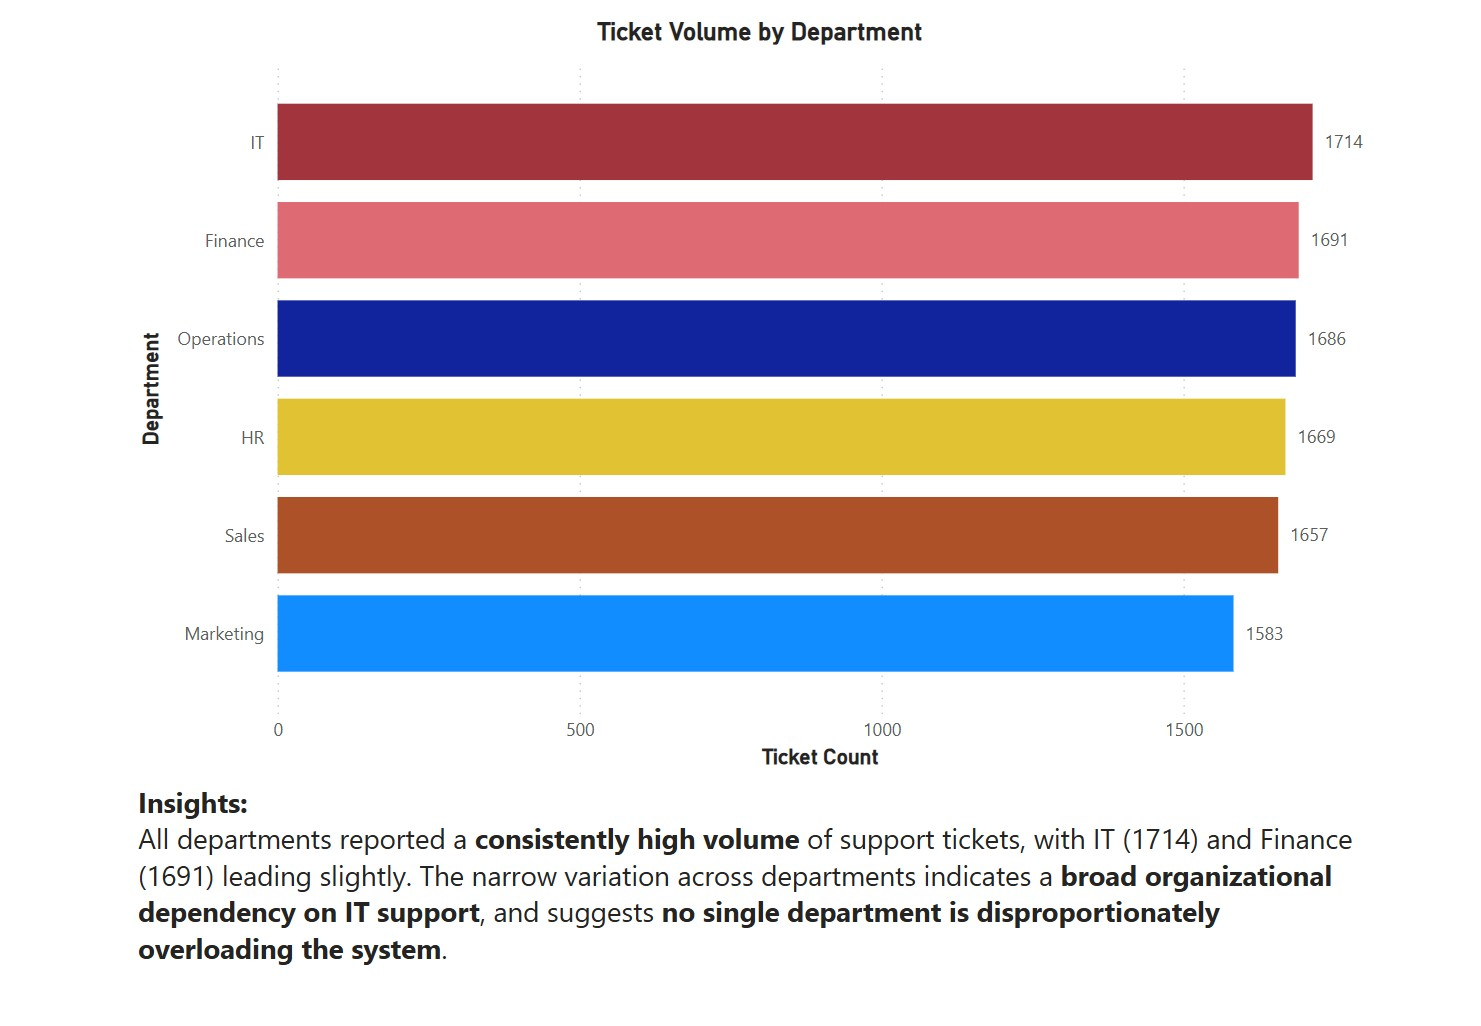

The dashboard page shown, as its layout file describes it:
{"tool":"powerbi","page":{"name":"Ticket Volume by Department","canvas":[1280,720],"ordinal":6},"visuals":[{"type":"clusteredBarChart","title":"Ticket Volume by Department","fields":{"Category":["tickets_by_department csv.Department"],"Y":["Sum(tickets_by_department csv.Ticket_Count)"]},"box":[185.4,18.2,850.1,512.7],"z":0},{"type":"textbox","box":[185.4,530.9,850.1,189.5],"z":1}]}

Visuals, with their boxes on the page's 1280x720 design canvas (x1, y1, x2, y2). These are canvas units, not pixel positions in the 1481x1026 screenshot, which may show the page scaled, cropped or inside an application window:
"Ticket Volume by Department" clusteredBarChart: [left=185, top=18, right=1036, bottom=531]
textbox: [left=185, top=531, right=1036, bottom=720]
